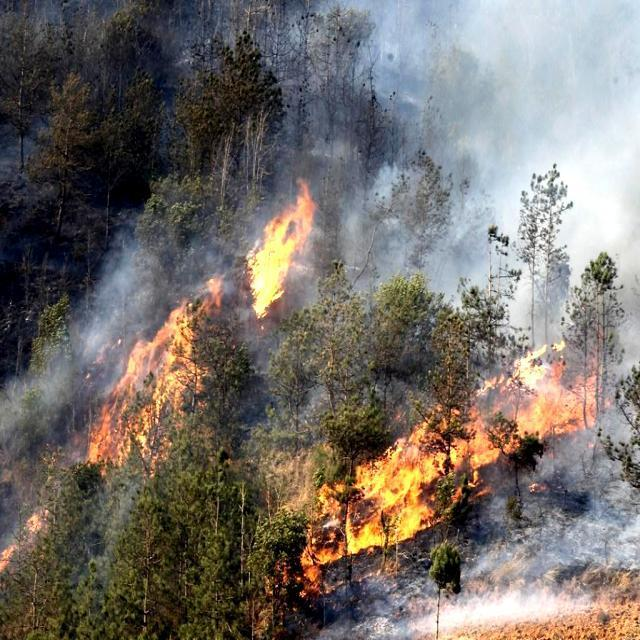Fire: (286, 368, 602, 556), (78, 312, 212, 461), (232, 192, 322, 318)
Smoke: (259, 15, 640, 388), (72, 256, 154, 388)
